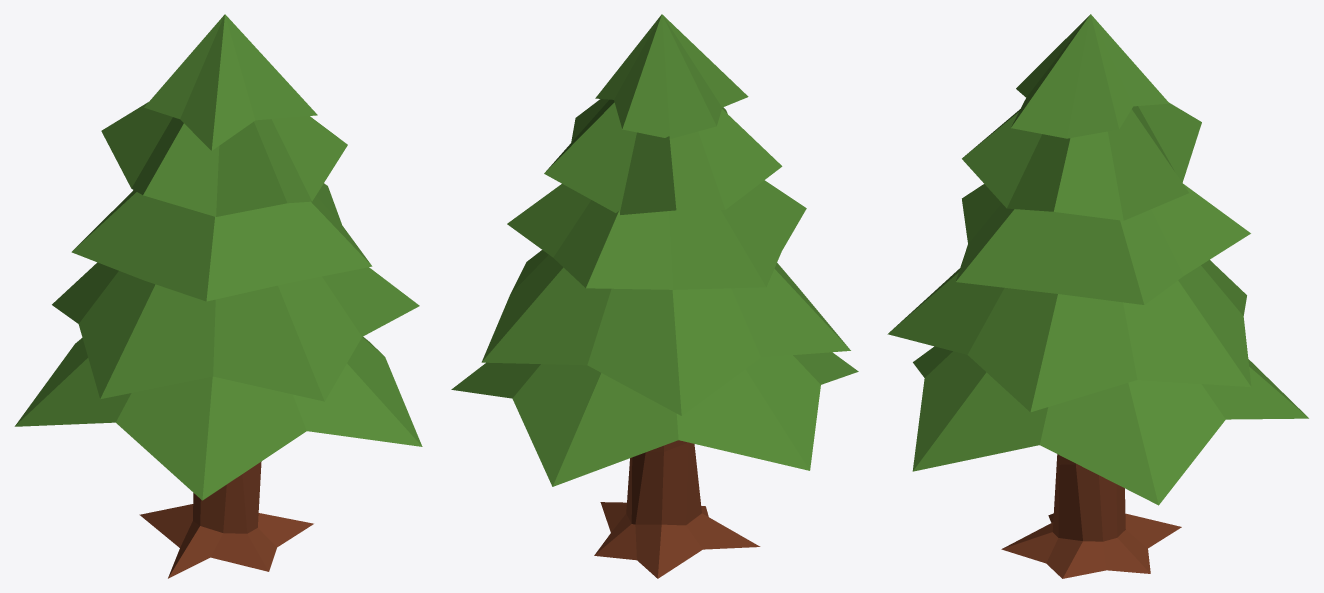
The model's file is Tree1.fbx.
The picture shows the model from 3 angles, left to right: view 1: azimuth 30°, elevation 25°; view 2: azimuth 150°, elevation 25°; view 3: azimuth 270°, elevation 25°; orthographic projection. The views are drawn at different scales.
Visible parts, largest first — view 1: Circle; view 2: Circle; view 3: Circle.
Part boxes in pixels (box(x1,y1,x2,y2)): Circle: box(14, 14, 422, 578); Circle: box(451, 14, 858, 578); Circle: box(887, 14, 1308, 578).
Size of the model in its own units: 191 by 271 by 192.
